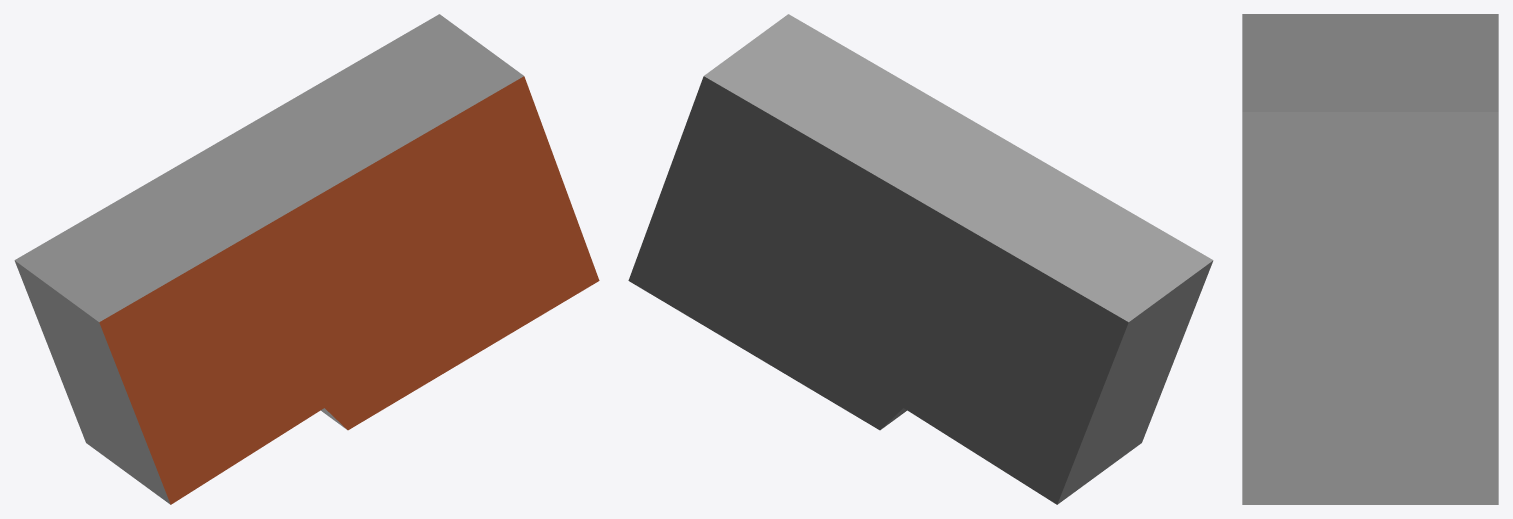
File: construction_7054_assumed_A_Casa_h6m.obj
3 renders of one model, left to right at view 1: azimuth 30°, elevation 25°; view 2: azimuth 150°, elevation 25°; view 3: azimuth 270°, elevation 25°, orthographic. The views are drawn at different scales.
Visible parts, largest first — view 1: construction_7054_assumed_A_Casa; view 2: construction_7054_assumed_A_Casa; view 3: construction_7054_assumed_A_Casa.
Boxes of the visible parts, box(x1,y1,x2,y2) form: construction_7054_assumed_A_Casa: box(14, 14, 599, 504); construction_7054_assumed_A_Casa: box(628, 14, 1213, 504); construction_7054_assumed_A_Casa: box(1242, 14, 1498, 504).
Bounding box in the file's own units: 20.44 × 13.38 × 6.
